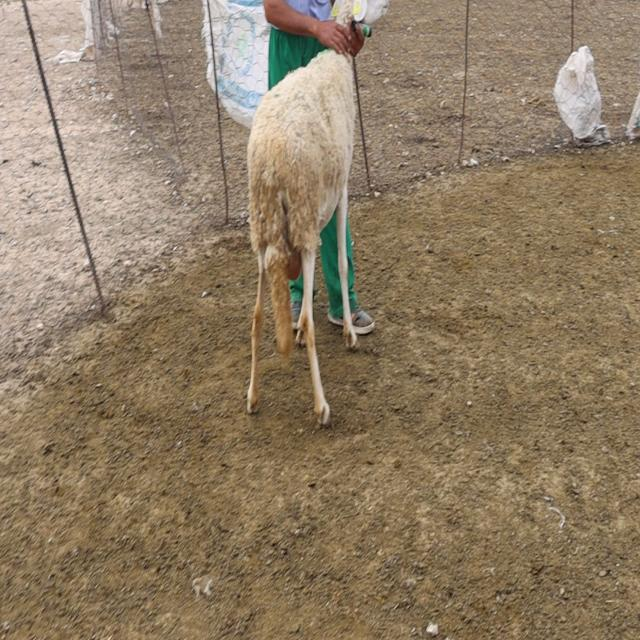Score_2: (247, 51, 357, 424)
